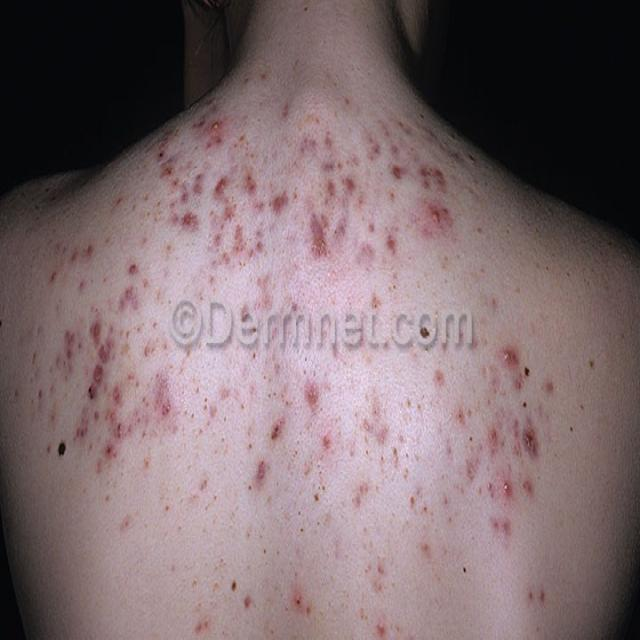acne: (18, 208, 182, 483), (411, 341, 578, 566), (223, 392, 400, 582), (186, 284, 396, 384), (338, 124, 471, 268), (156, 117, 275, 264), (175, 570, 393, 640), (278, 172, 374, 266)
